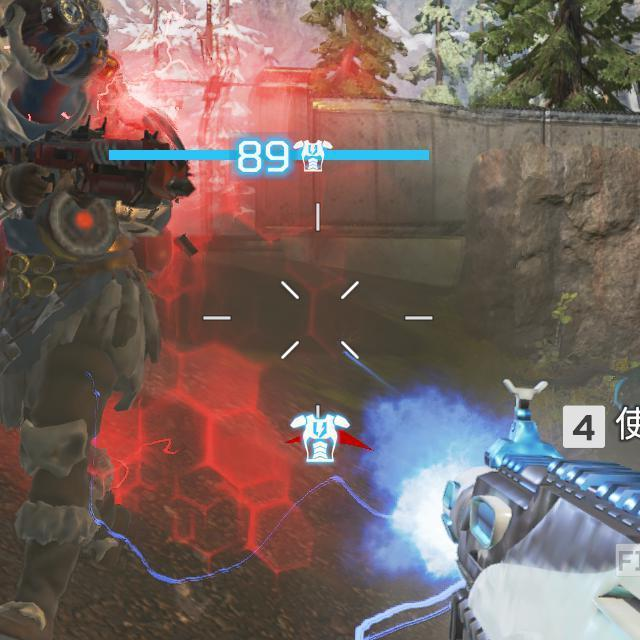avatar: (0, 2, 199, 639)
